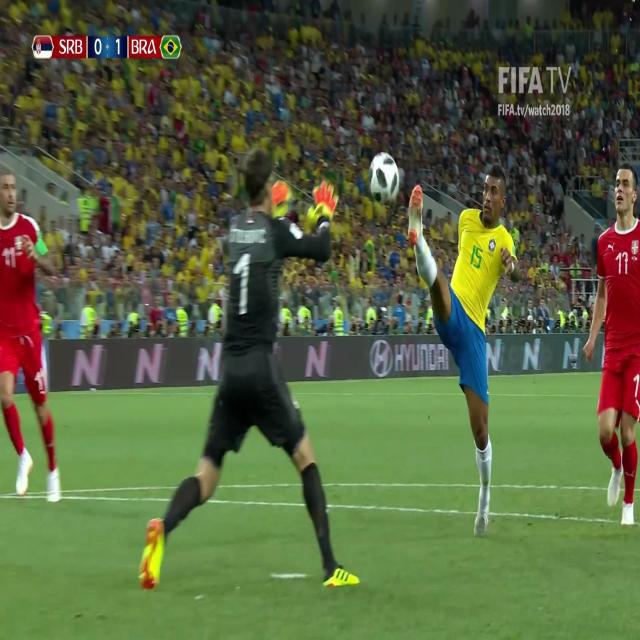ball: (366, 148, 401, 205)
player: (138, 149, 360, 592), (403, 152, 522, 536), (580, 162, 640, 526), (0, 165, 63, 508)
